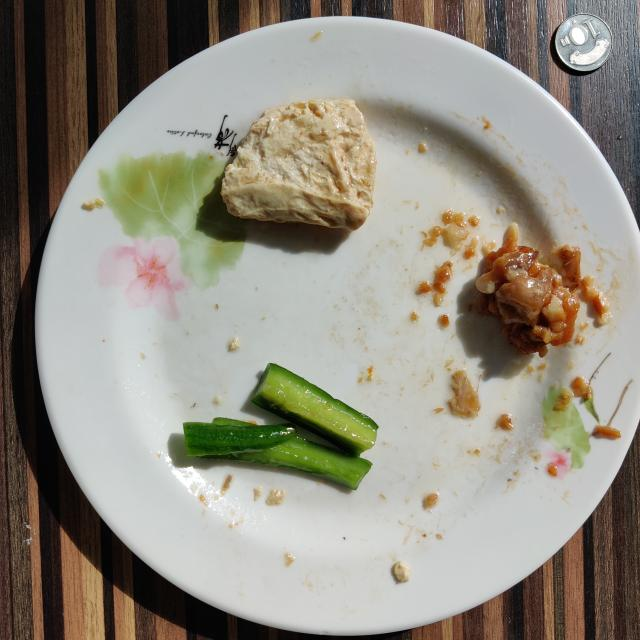Kabayaki sea bream fillet: (476, 225, 580, 356)
coin: (555, 14, 612, 71)
cucumber: (184, 364, 378, 490)
